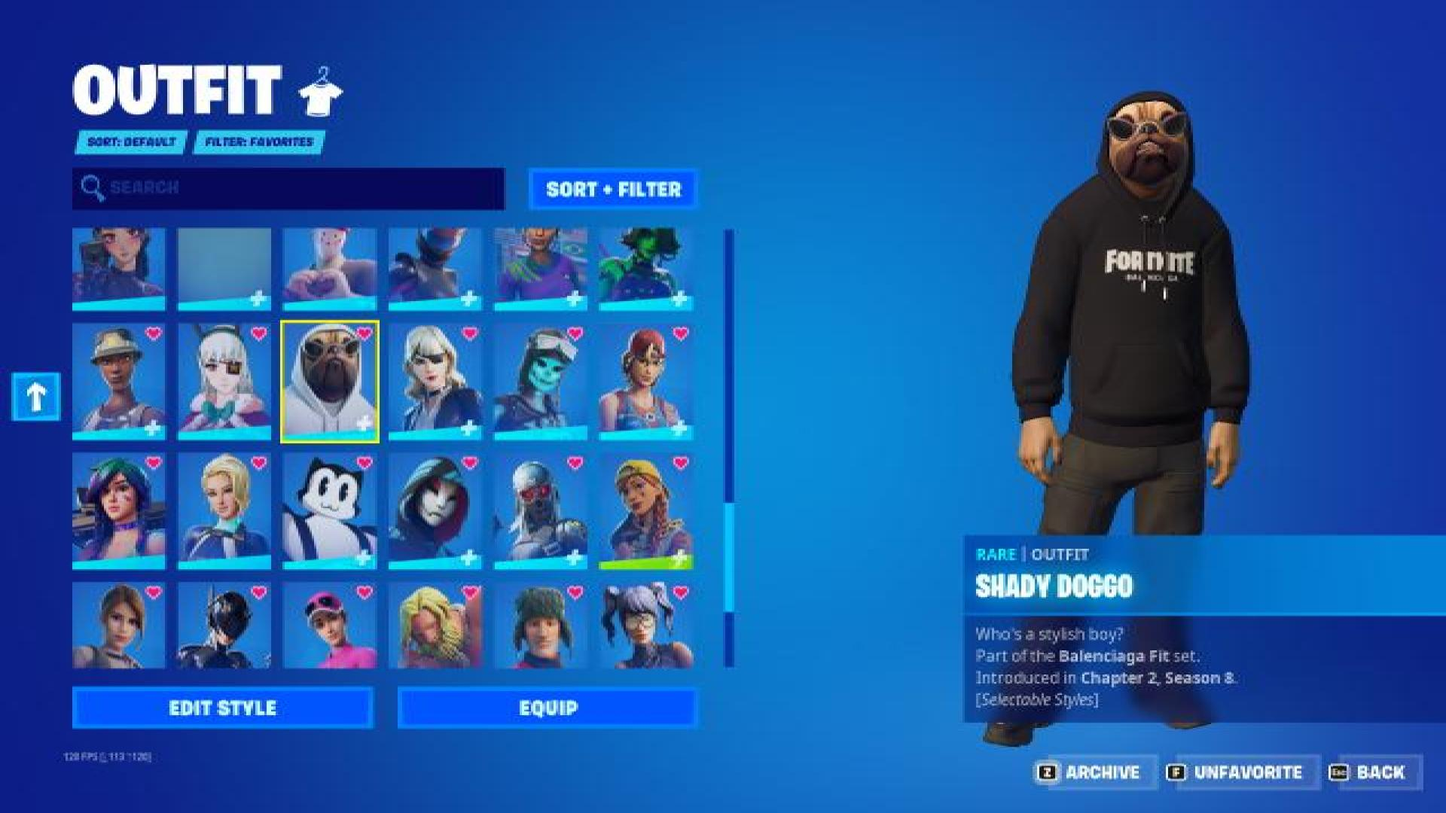player: (985, 81, 1254, 756)
